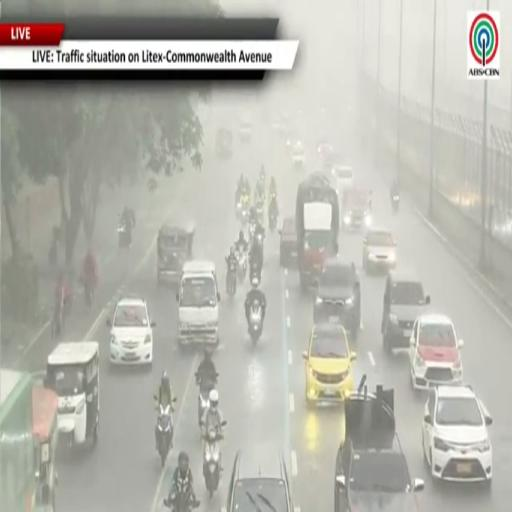bus: (0, 370, 36, 511), (33, 381, 58, 511)
car: (334, 376, 424, 511), (423, 386, 492, 483), (221, 450, 293, 511), (303, 324, 356, 404), (382, 268, 430, 353), (409, 314, 463, 389), (313, 258, 360, 339), (176, 261, 220, 347), (107, 296, 155, 364), (363, 228, 396, 273), (339, 187, 371, 230), (279, 217, 297, 266), (331, 165, 353, 197), (317, 141, 335, 169), (216, 127, 232, 157), (291, 141, 305, 166), (239, 116, 252, 142)
motorcycle: (203, 428, 223, 499), (195, 374, 218, 427), (156, 405, 173, 467), (164, 493, 200, 511), (249, 300, 262, 344), (226, 264, 237, 296), (236, 251, 247, 282), (118, 222, 131, 248), (84, 280, 94, 311), (254, 231, 264, 255), (248, 222, 256, 244), (255, 231, 264, 249), (240, 207, 248, 226), (256, 204, 264, 223), (392, 195, 399, 214), (269, 214, 276, 232), (236, 200, 242, 218)
truck: (295, 173, 339, 290)
